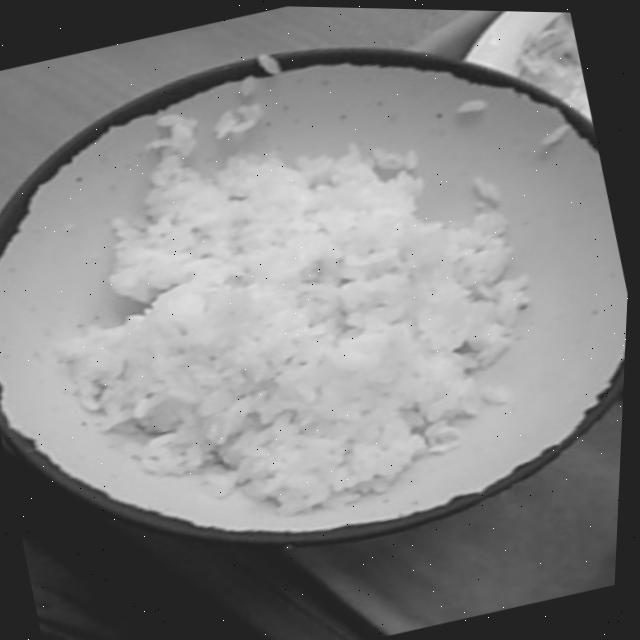米饭主食: (0, 47, 609, 575)
